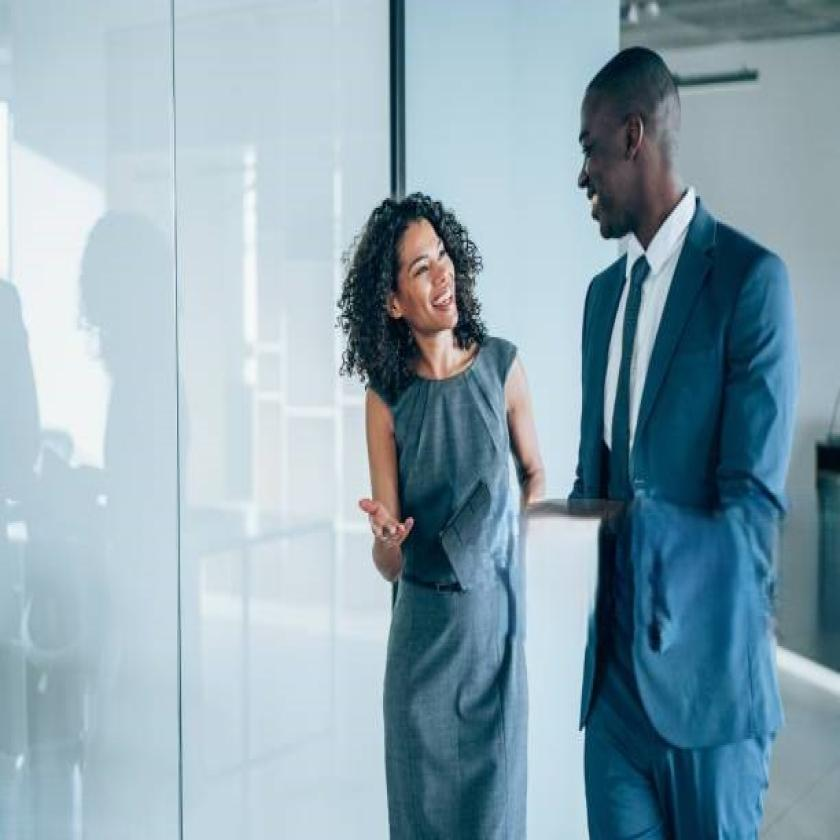Sin_casco: (568, 43, 688, 260), (355, 181, 472, 368)
